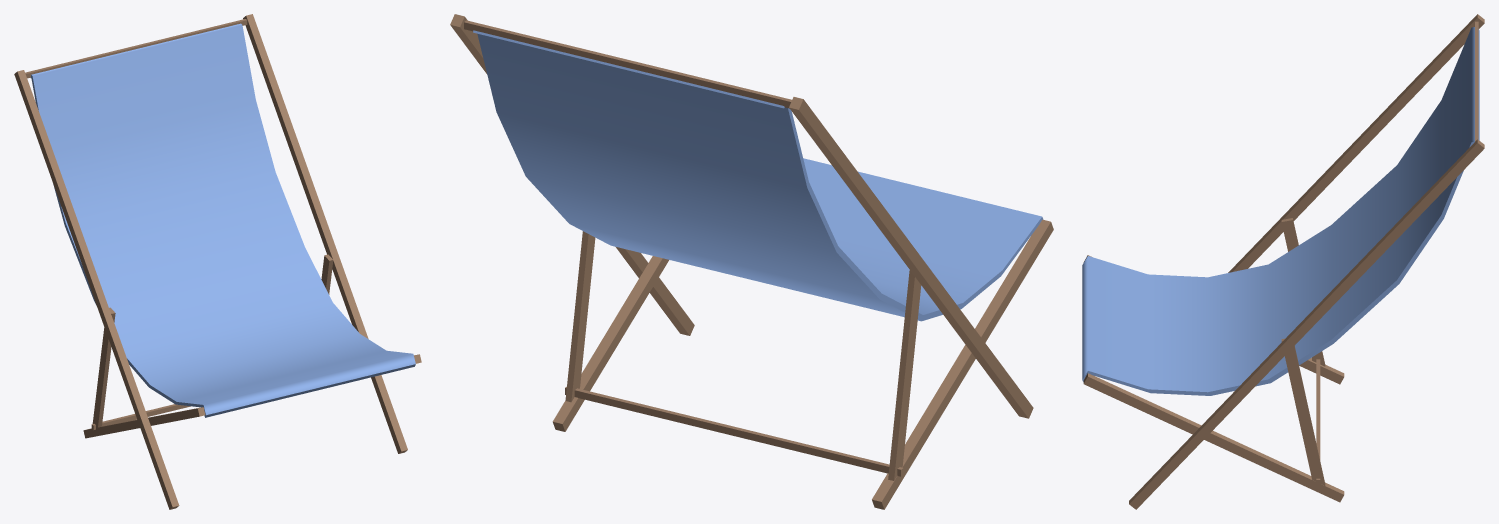
The model's file is SillaMadera.fbx.
3 views of the same model, side by side, from view 1: azimuth 30°, elevation 25°; view 2: azimuth 150°, elevation 25°; view 3: azimuth 270°, elevation 25° (orthographic). The views are drawn at different scales.
Parts seen in each view (by area): view 1: tela_silla, estructura_silla; view 2: tela_silla, estructura_silla; view 3: tela_silla, estructura_silla.
Boxes of the visible parts, box(x1,y1,x2,y2) form: tela_silla: box(30, 23, 415, 417); estructura_silla: box(14, 14, 421, 509); tela_silla: box(473, 30, 1043, 321); estructura_silla: box(450, 14, 1053, 509); tela_silla: box(1082, 27, 1479, 395); estructura_silla: box(1083, 14, 1484, 509).
Size of the model in its own units: 12.72 by 16.89 by 16.79.
